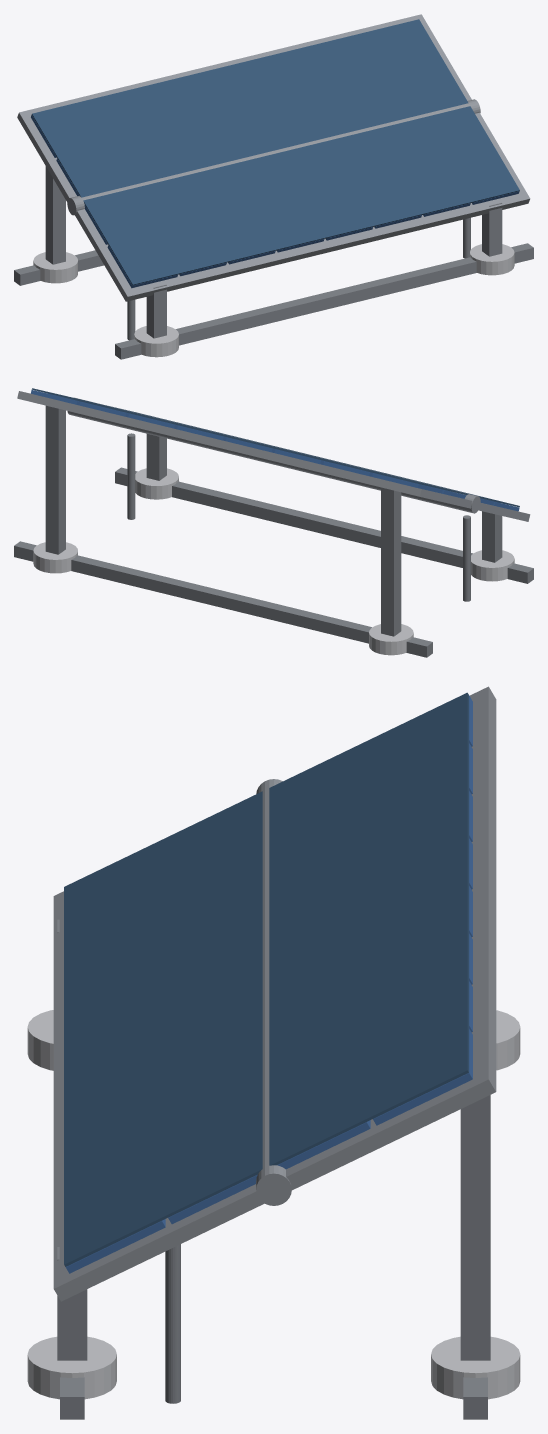
File: solar_array.glb
The picture shows the model from 3 angles, top to bottom: view 1: azimuth 30°, elevation 25°; view 2: azimuth 150°, elevation 25°; view 3: azimuth 270°, elevation 25°; orthographic projection. The views are drawn at different scales.
Parts seen in each view (by area): view 1: panel_34, panel, frame_12, frame_11, frame_2, frame_9, frame_5, frame_4, frame_6, frame, frame_13; view 2: frame_13, frame_12, panel, frame_7, frame_2, frame_11, panel_34, frame_10, frame, frame_5, frame_9, frame_4 (+4 smaller); view 3: panel_34, panel, frame_7, frame_11, frame_9, frame_10, frame_8, frame_6, frame_4, frame_5, panel_9, frame_12 (+3 smaller).
Part boxes in pixels (x1=…): panel_34: x1=31, y1=19, x2=519, y2=285; panel: x1=17, y1=14, x2=530, y2=301; frame_12: x1=115, y1=243, x2=533, y2=359; frame_11: x1=67, y1=99, x2=480, y2=215; frame_2: x1=45, y1=166, x2=65, y2=264; frame_9: x1=470, y1=244, x2=514, y2=275; frame_5: x1=33, y1=252, x2=77, y2=283; frame_4: x1=134, y1=326, x2=178, y2=357; frame_6: x1=482, y1=203, x2=502, y2=256; frame: x1=146, y1=284, x2=166, y2=338; frame_13: x1=14, y1=250, x2=103, y2=285; frame_13: x1=14, y1=541, x2=432, y2=657; frame_12: x1=115, y1=467, x2=533, y2=583; panel: x1=17, y1=391, x2=530, y2=521; frame_7: x1=45, y1=405, x2=65, y2=554; frame_2: x1=381, y1=487, x2=401, y2=636; frame_11: x1=67, y1=397, x2=480, y2=513; panel_34: x1=31, y1=388, x2=519, y2=507; frame_10: x1=33, y1=542, x2=77, y2=573; frame: x1=482, y1=511, x2=502, y2=562; frame_5: x1=369, y1=624, x2=413, y2=655; frame_9: x1=135, y1=468, x2=178, y2=499; frame_4: x1=471, y1=550, x2=514, y2=581; panel_34: x1=64, y1=692, x2=468, y2=1266; panel: x1=53, y1=686, x2=496, y2=1301; frame_7: x1=460, y1=1095, x2=490, y2=1360; frame_11: x1=256, y1=779, x2=291, y2=1205; frame_9: x1=27, y1=1336, x2=116, y2=1399; frame_10: x1=431, y1=1336, x2=520, y2=1399; frame_8: x1=165, y1=1244, x2=180, y2=1403; frame_6: x1=57, y1=1247, x2=87, y2=1360; frame_4: x1=27, y1=1010, x2=53, y2=1070; frame_5: x1=496, y1=1010, x2=520, y2=1070; panel_9: x1=373, y1=1028, x2=472, y2=1125; frame_12: x1=60, y1=1377, x2=84, y2=1419.
Bounding box in the file's own units: 9.6 × 3.95 × 4.96.
